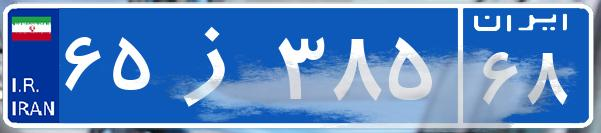3: (273, 28, 330, 110)
5: (385, 28, 445, 110), (110, 28, 158, 105)
6: (57, 26, 110, 107), (475, 38, 525, 113)
8: (330, 28, 385, 110), (525, 38, 570, 115)
ز: (158, 15, 273, 115)
